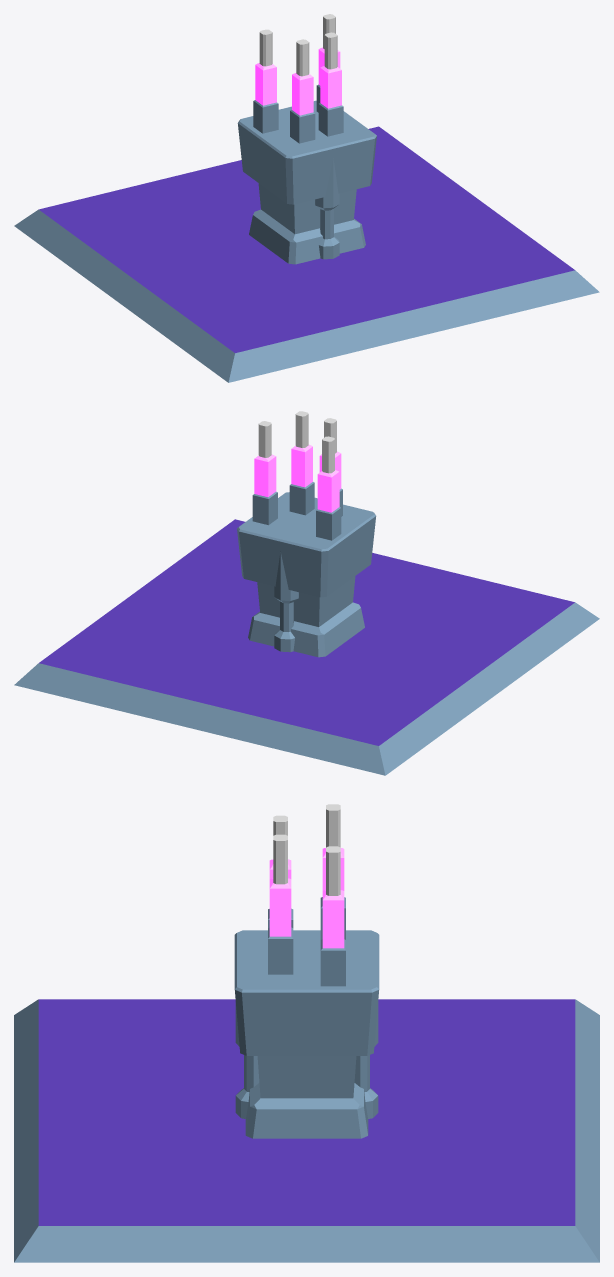
Rendered from 10_aaltar_1.fbx.
3 renders of one model, top to bottom at view 1: azimuth 30°, elevation 25°; view 2: azimuth 150°, elevation 25°; view 3: azimuth 270°, elevation 25°, orthographic. The views are drawn at different scales.
Visible parts, largest first — view 1: foundation_1; view 2: foundation_1; view 3: foundation_1.
Part boxes in pixels (bbox=[...]): foundation_1: bbox=[14, 14, 599, 382]; foundation_1: bbox=[14, 411, 599, 775]; foundation_1: bbox=[14, 804, 599, 1262].
Bounding box in the file's own units: 78.73 × 46.07 × 78.73.
